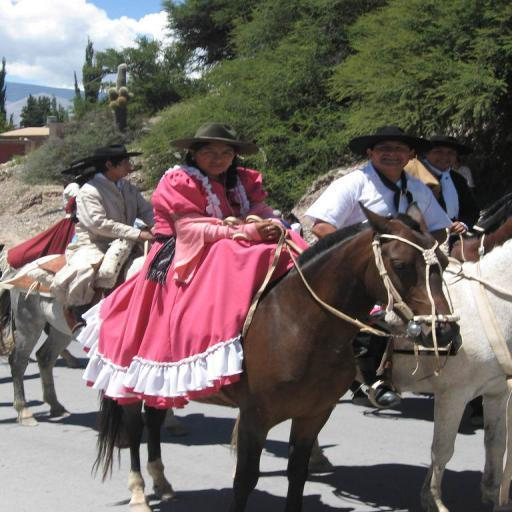horse: (92, 198, 464, 512), (227, 236, 511, 511), (0, 239, 188, 437), (448, 219, 512, 261), (470, 190, 512, 238)
